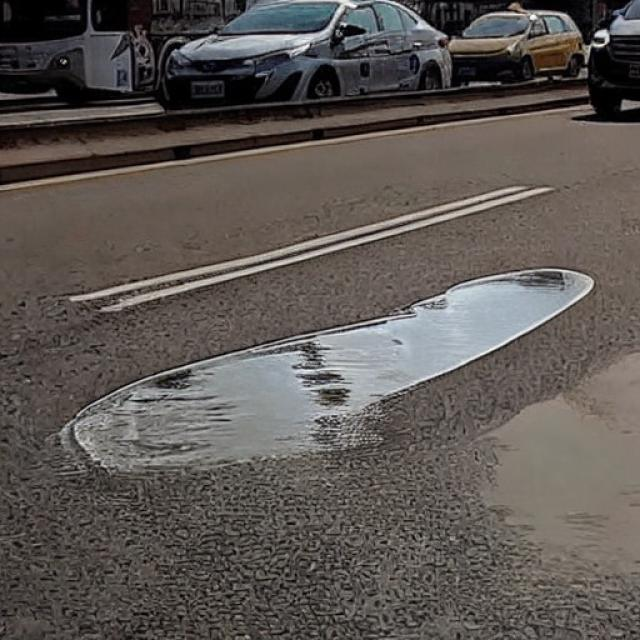puddle: (79, 267, 594, 478)
